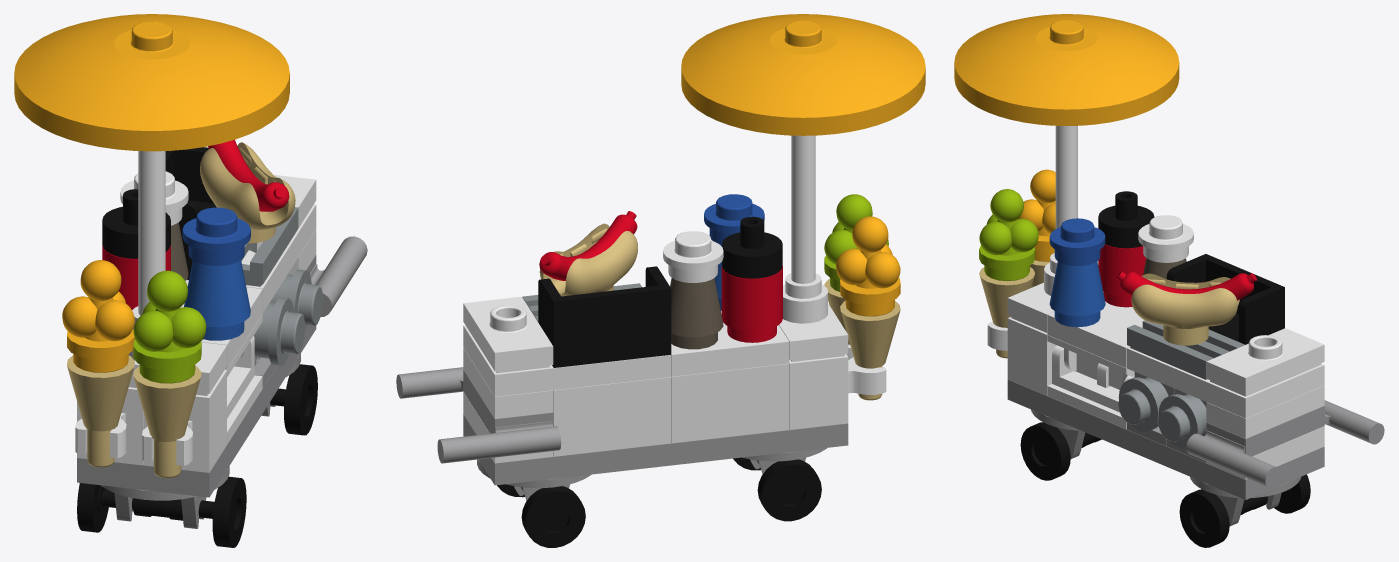
File: LEGOLAND® Park_hotdog.fbx
3 views of the same model, side by side, from view 1: azimuth 30°, elevation 25°; view 2: azimuth 150°, elevation 25°; view 3: azimuth 270°, elevation 25° (orthographic). The views are drawn at different scales.
Parts seen in each view (by area): view 1: part.971, part.982, part.983, part.966, part.952, part.954, part.947, part.946, part.970, part.979, part.980, part.977 (+19 smaller); view 2: part.971, part.963, part.966, part.964, part.965, part.967, part.970, part.981, part.949, part.957, part.983, part.960 (+16 smaller); view 3: part.971, part.966, part.967, part.949, part.954, part.957, part.963, part.982, part.953, part.980, part.968, part.962 (+19 smaller).
Boxes of the visible parts, <box> form: part.971: <box>14,14,289,151</box>; part.982: <box>133,270,206,383</box>; part.983: <box>62,260,134,372</box>; part.966: <box>77,325,316,497</box>; part.952: <box>77,476,246,547</box>; part.954: <box>200,142,295,243</box>; part.947: <box>67,355,134,467</box>; part.946: <box>133,366,201,477</box>; part.970: <box>128,151,165,360</box>; part.979: <box>184,260,250,340</box>; part.980: <box>142,370,226,472</box>; part.977: <box>182,207,250,265</box>; part.971: <box>681,14,925,135</box>; part.963: <box>538,266,671,367</box>; part.966: <box>463,414,848,485</box>; part.964: <box>671,363,789,443</box>; part.965: <box>553,377,671,456</box>; part.967: <box>396,367,561,463</box>; part.970: <box>783,135,827,323</box>; part.981: <box>789,354,886,429</box>; part.949: <box>463,296,553,373</box>; part.957: <box>463,325,671,396</box>; part.983: <box>836,216,900,316</box>; part.960: <box>721,266,782,342</box>; part.971: <box>954,14,1179,125</box>; part.966: <box>1007,379,1324,499</box>; part.967: <box>1186,400,1384,488</box>; part.949: <box>1206,328,1324,396</box>; part.954: <box>1131,273,1239,345</box>; part.957: <box>1127,347,1324,418</box>; part.963: <box>1166,254,1284,344</box>; part.982: <box>979,189,1038,281</box>; part.953: <box>1179,474,1310,547</box>; part.980: <box>987,317,1056,395</box>; part.968: <box>1047,345,1133,429</box>; part.962: <box>1047,292,1144,367</box>.
Size of the model in its own units: 6123 by 6680 by 6123.
